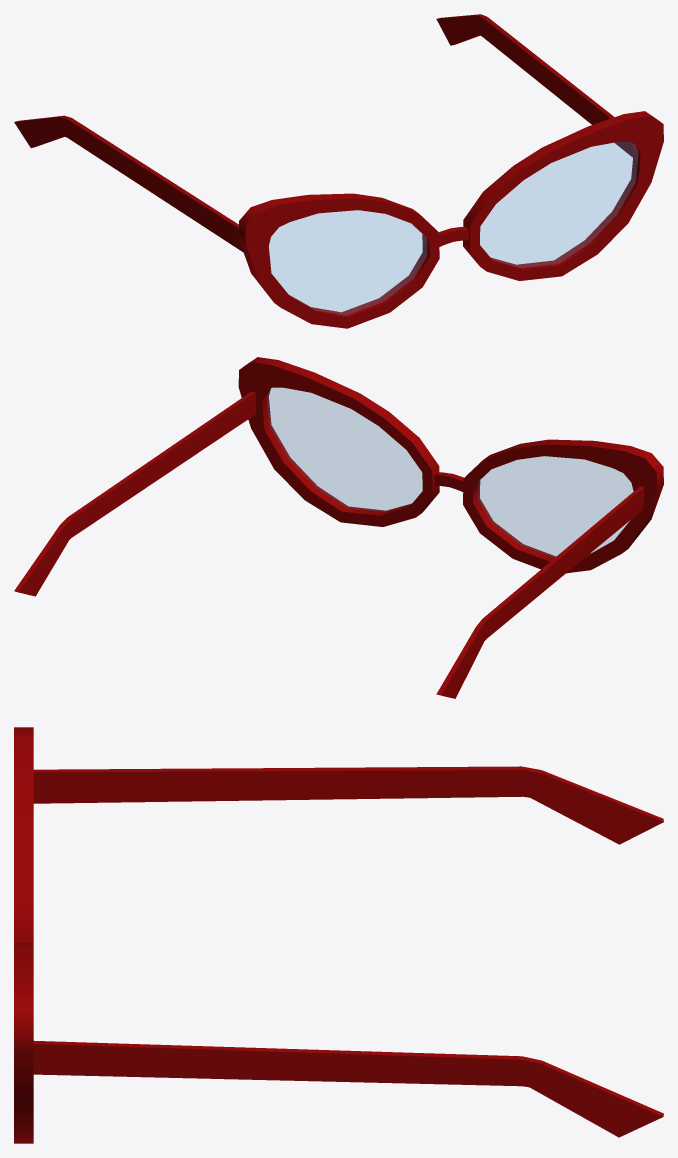
Rendered from CatEyeGlasses.fbx.
The picture shows the model from 3 angles, top to bottom: view 1: azimuth 30°, elevation 25°; view 2: azimuth 150°, elevation 25°; view 3: azimuth 270°, elevation 25°; orthographic projection. The views are drawn at different scales.
Parts seen in each view (by area): view 1: CatEyeGlasses; view 2: CatEyeGlasses; view 3: CatEyeGlasses.
Part boxes in pixels (box(x1,y1,x2,y2)): CatEyeGlasses: box(14, 14, 663, 328); CatEyeGlasses: box(14, 357, 663, 698); CatEyeGlasses: box(14, 727, 663, 1143).
Bounding box in the file's own units: 74.3 × 23.34 × 68.45.
